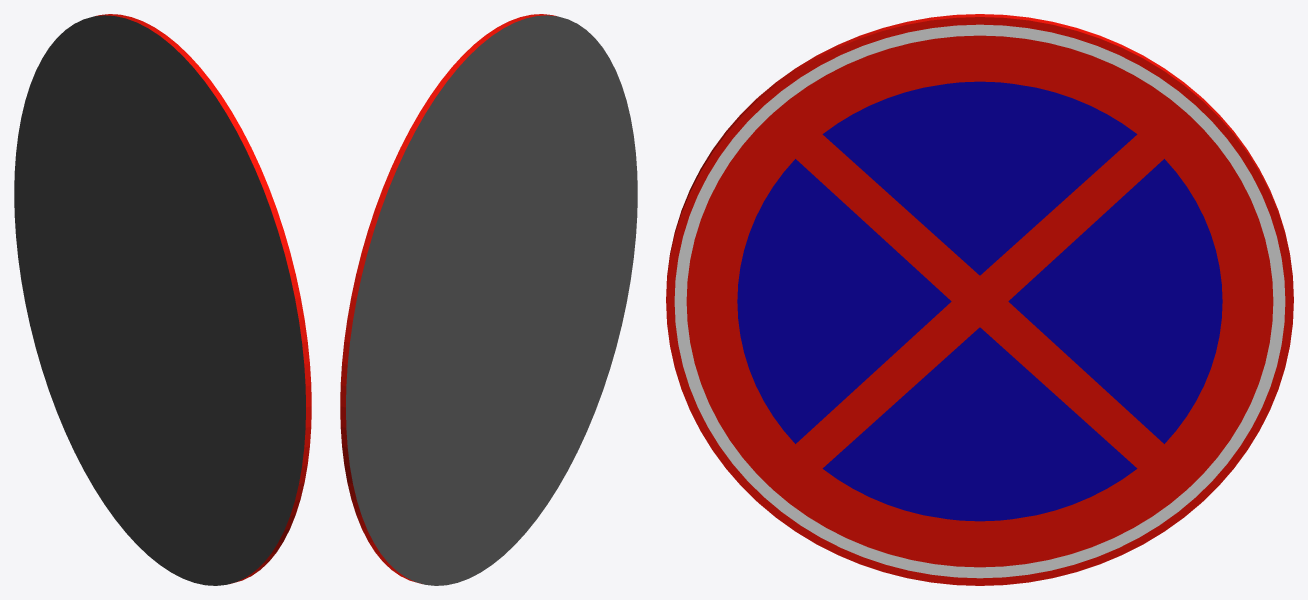
File: 禁止停车.gltf
The picture shows the model from 3 angles, left to right: view 1: azimuth 30°, elevation 25°; view 2: azimuth 150°, elevation 25°; view 3: azimuth 270°, elevation 25°; orthographic projection. The views are drawn at different scales.
Parts seen in each view (by area): view 1: 圆环; view 2: 圆环; view 3: 圆环.
Boxes of the visible parts, bbox=[...] form: 圆环: bbox=[14, 14, 311, 585]; 圆环: bbox=[340, 14, 637, 585]; 圆环: bbox=[666, 14, 1293, 585].
Size of the model in its own units: 0.009 by 0.8 by 0.8.
